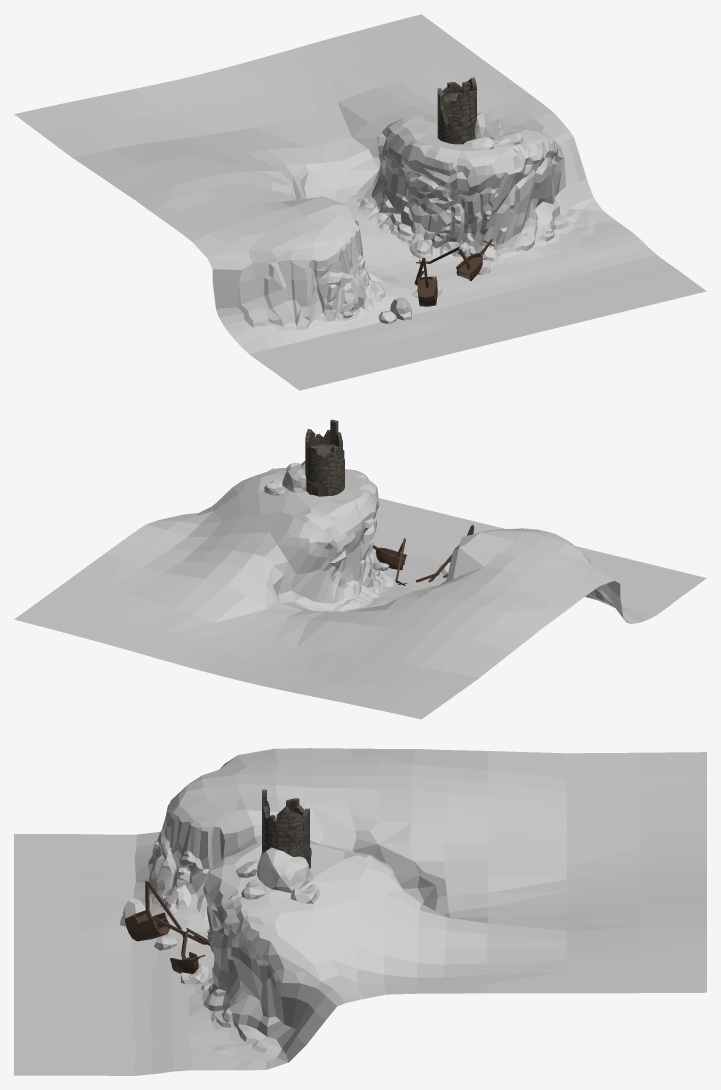
The model's file is location 1.fbx.
3 renders of one model, top to bottom at view 1: azimuth 30°, elevation 25°; view 2: azimuth 150°, elevation 25°; view 3: azimuth 270°, elevation 25°, orthographic. The views are drawn at different scales.
Visible parts, largest first — view 1: RetopoFlow.001, Cylinder.008; view 2: RetopoFlow.001, Cylinder.008; view 3: RetopoFlow.001, Cylinder.008, Cube.003.
Boxes of the visible parts, box(x1,y1,x2,y2) form: RetopoFlow.001: box(14, 14, 706, 390); Cylinder.008: box(437, 77, 476, 144); RetopoFlow.001: box(14, 461, 706, 719); Cylinder.008: box(305, 419, 344, 496); RetopoFlow.001: box(14, 748, 706, 1075); Cylinder.008: box(262, 789, 311, 868); Cube.003: box(124, 910, 170, 941).
Size of the model in its own units: 17807 by 7002 by 21608.
